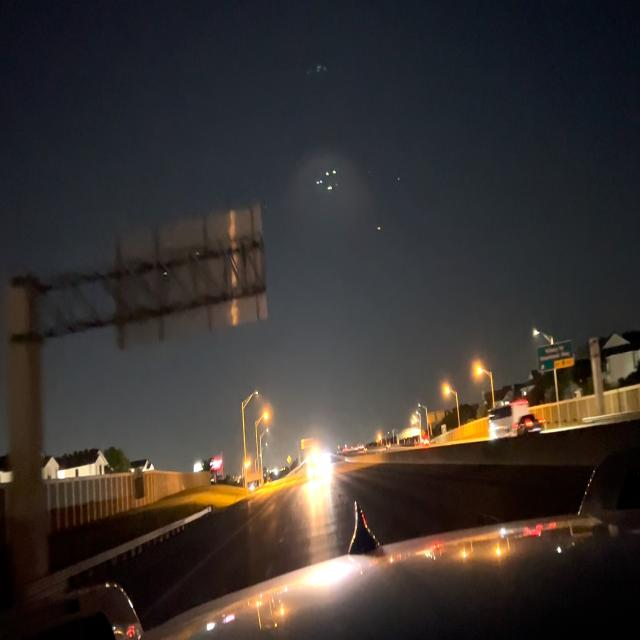back-of-sign: (119, 205, 271, 343)
